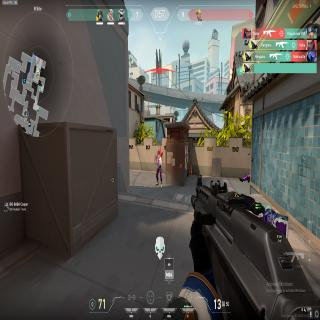ENEMY-BODY: (156, 152, 163, 188)
ENEMY-HEAD: (158, 155, 160, 159)
